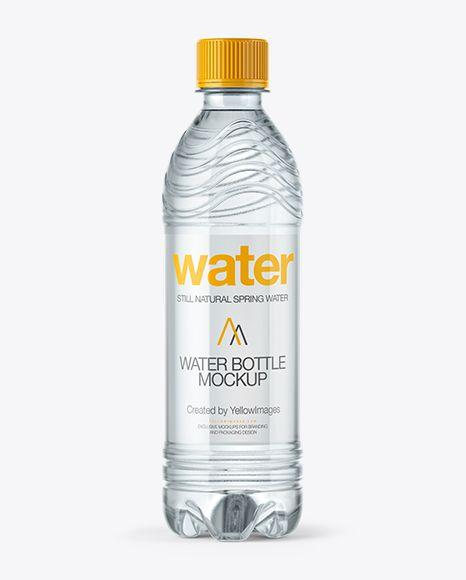HDPE: (196, 38, 270, 88)
PETE: (161, 89, 304, 543)
PP: (162, 234, 303, 445)
